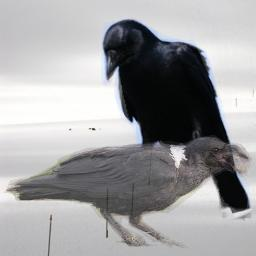Crow: (100, 18, 252, 222), (4, 134, 252, 249)
